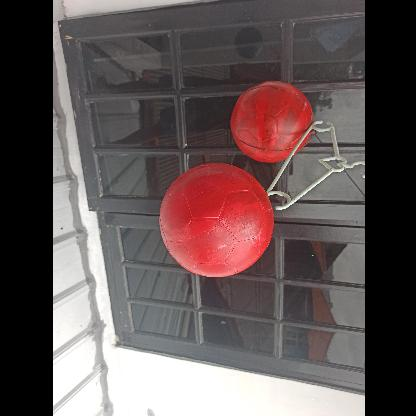red_ball: (160, 162, 274, 278), (230, 83, 310, 163)
